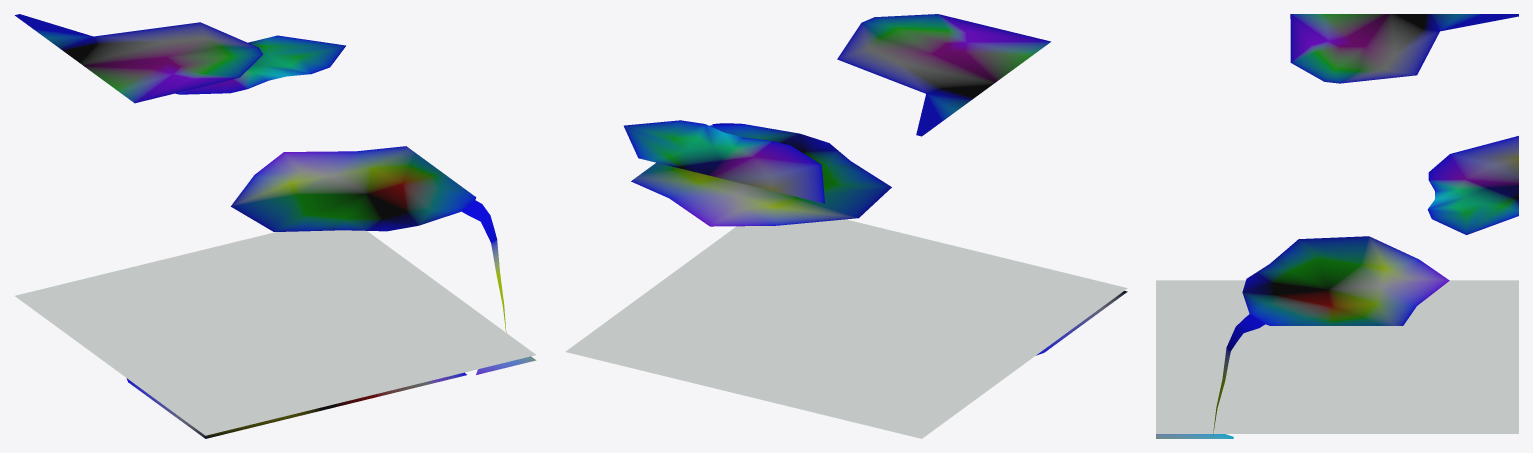
3 renders of one model, left to right at view 1: azimuth 30°, elevation 25°; view 2: azimuth 150°, elevation 25°; view 3: azimuth 270°, elevation 25°, orthographic. The views are drawn at different scales.
Parts seen in each view (by area): view 1: G:\FFXIV-MapTools\exports\w1f5\bg\ffxiv\wil_w1\fld\w1f5\bgpl (×2); view 2: G:\FFXIV-MapTools\exports\w1f5\bg\ffxiv\wil_w1\fld\w1f5\bgpl (×2); view 3: G:\FFXIV-MapTools\exports\w1f5\bg\ffxiv\wil_w1\fld\w1f5\bgpl (×2).
Part boxes in pixels (x1,y1,x2,y2): G:\FFXIV-MapTools\exports\w1f5\bg\ffxiv\wil_w1\fld\w1f5\bgpl (×2): (15,14,536,438); G:\FFXIV-MapTools\exports\w1f5\bg\ffxiv\wil_w1\fld\w1f5\bgpl (×2): (565,14,1127,438); G:\FFXIV-MapTools\exports\w1f5\bg\ffxiv\wil_w1\fld\w1f5\bgpl (×2): (1156,14,1518,438).
Size of the model in its own units: 128 by 106 by 128.
